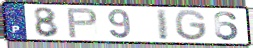6: (213, 10, 240, 41)
8: (32, 6, 62, 39)
9: (107, 8, 133, 39)
G: (173, 8, 208, 42)
I: (155, 8, 170, 41)
P: (65, 7, 99, 39)
